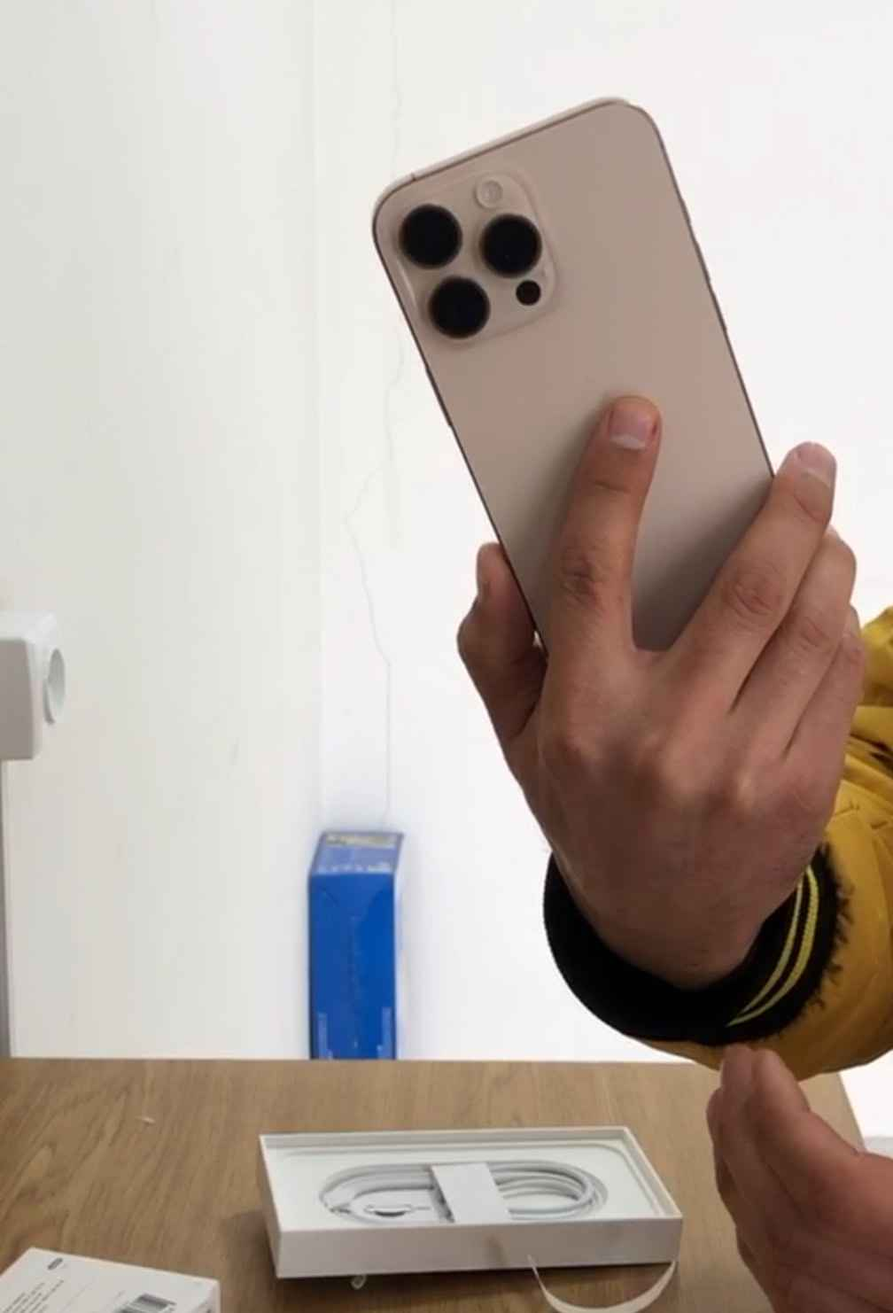phone: (366, 92, 785, 649)
